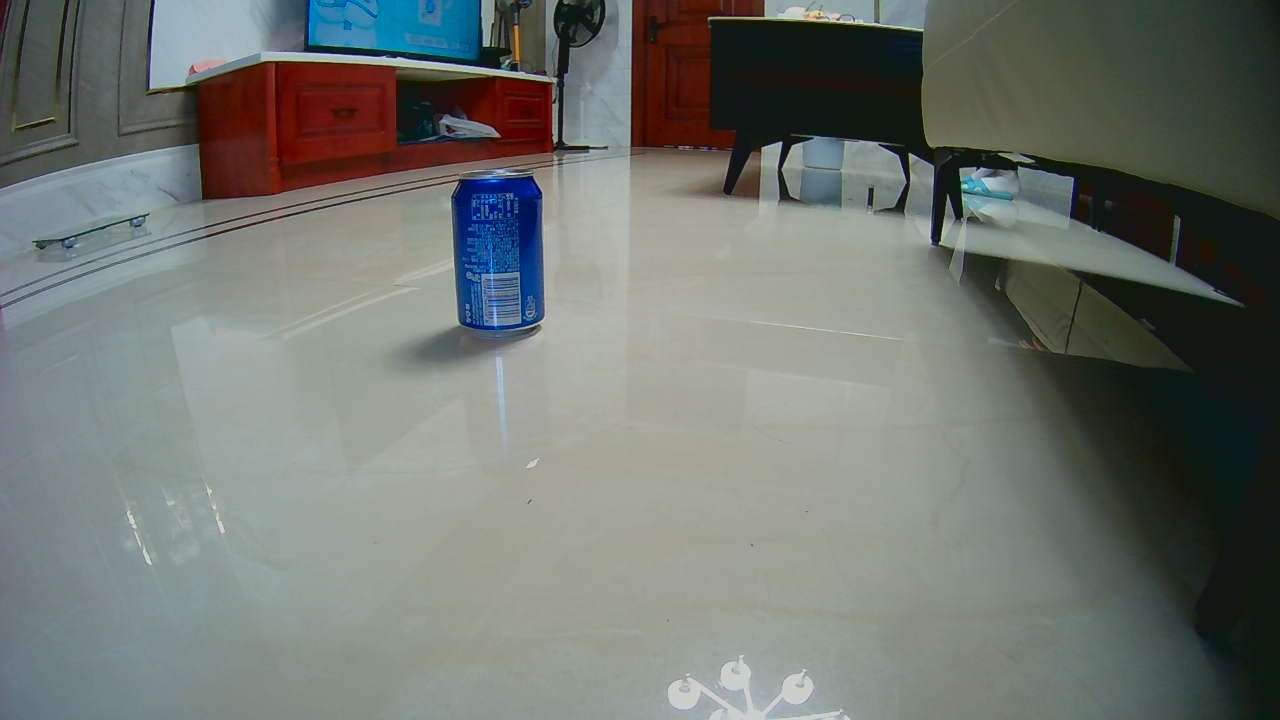pessi: (453, 176, 544, 334)
